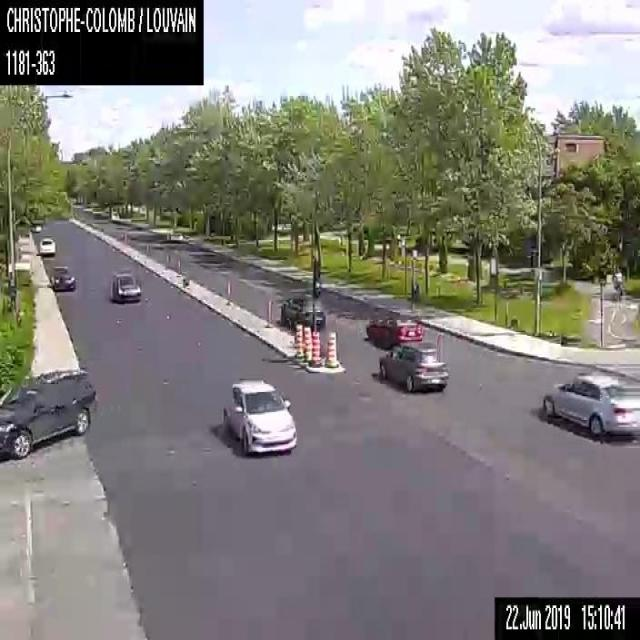construction: (324, 329, 336, 367), (310, 330, 321, 364), (302, 325, 312, 359), (294, 322, 303, 356)
vehicle: (0, 365, 95, 463), (542, 368, 639, 440), (221, 372, 298, 456), (376, 341, 448, 395), (365, 311, 422, 346), (278, 294, 325, 329), (110, 272, 140, 301), (49, 264, 75, 290), (38, 236, 56, 253)
